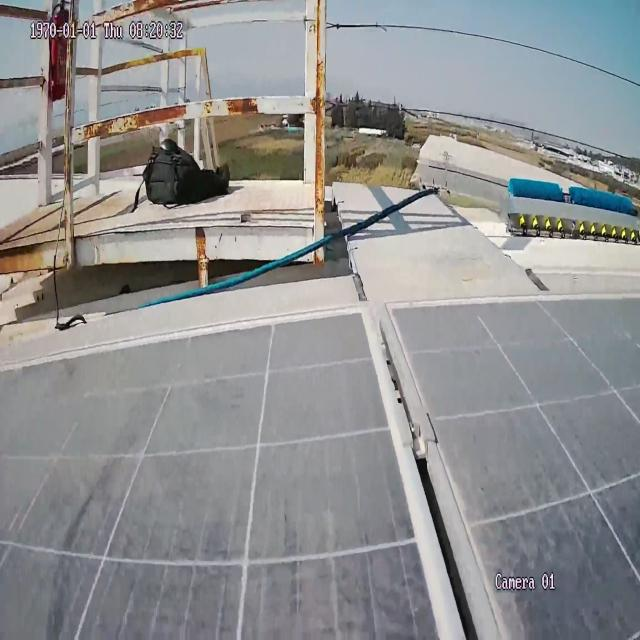interior panel: (282, 284, 629, 640)
